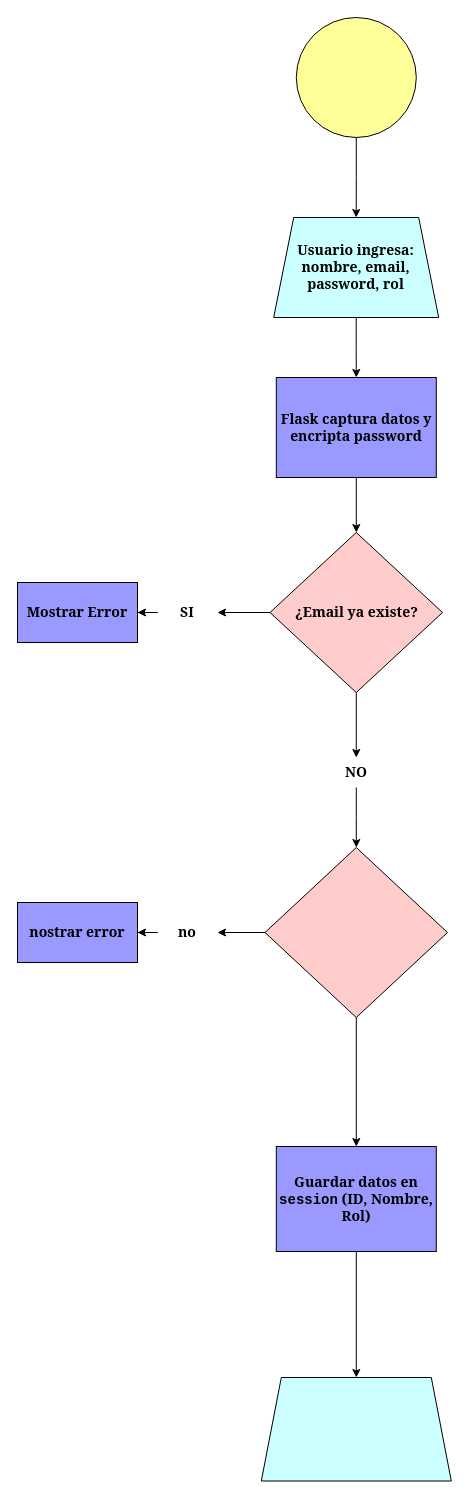
Some shapes in this 469 by 1499 pixel diagram are drawn without their labels. The shapes that lost their labels are listed below. From the top down, each one's centre as x and y in pixels, then its label:
[355,77]: Inicio: Acceso a /registro
[356,932]: ¿La clave coincide?
[355,1428]: Redirigir a index.html
